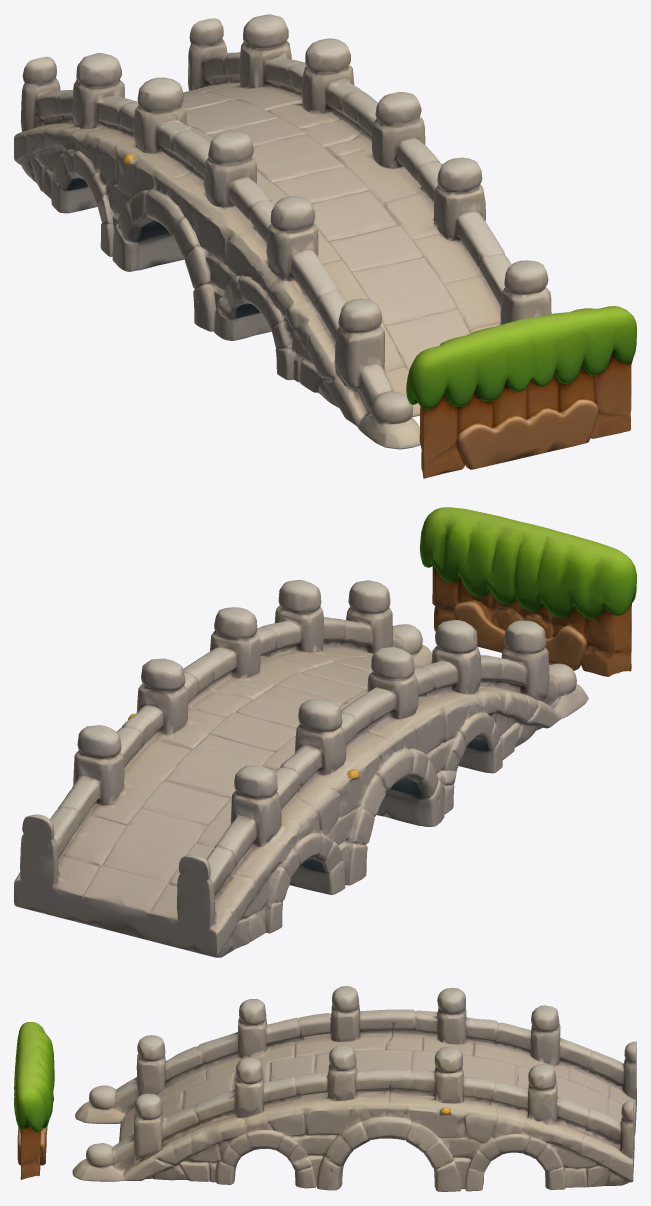
The model's file is bridge.glb.
The picture shows the model from 3 angles, top to bottom: view 1: azimuth 30°, elevation 25°; view 2: azimuth 150°, elevation 25°; view 3: azimuth 270°, elevation 25°; orthographic projection. The views are drawn at different scales.
Visible parts, largest first — view 1: tripo_node_92b0dca9-957e-4203-a502-1536b37387af; view 2: tripo_node_92b0dca9-957e-4203-a502-1536b37387af; view 3: tripo_node_92b0dca9-957e-4203-a502-1536b37387af.
Part boxes in pixels (bbox=[...]): tripo_node_92b0dca9-957e-4203-a502-1536b37387af: bbox=[14, 14, 636, 478]; tripo_node_92b0dca9-957e-4203-a502-1536b37387af: bbox=[14, 507, 636, 957]; tripo_node_92b0dca9-957e-4203-a502-1536b37387af: bbox=[14, 986, 636, 1191].
Bounding box in the file's own units: 0.3407 × 0.2281 × 1.
Materials: 1 (1 with a texture image).
